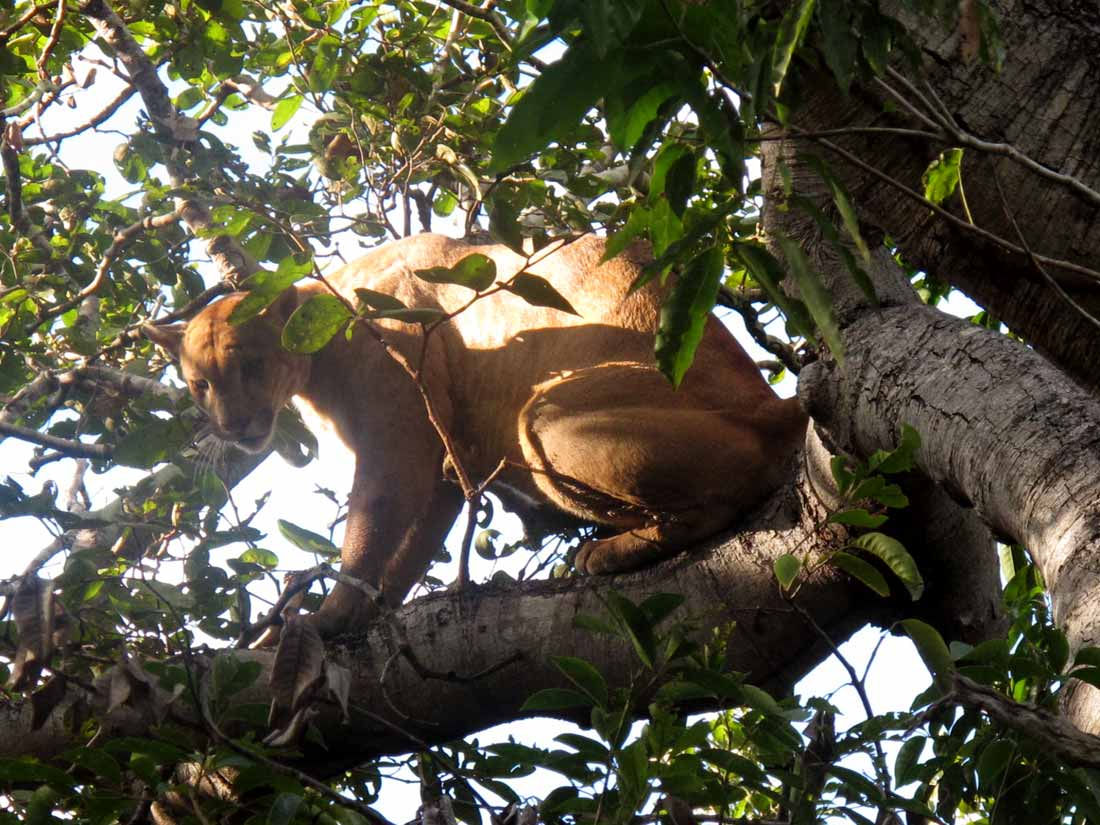OncaParda: (126, 230, 830, 638)
